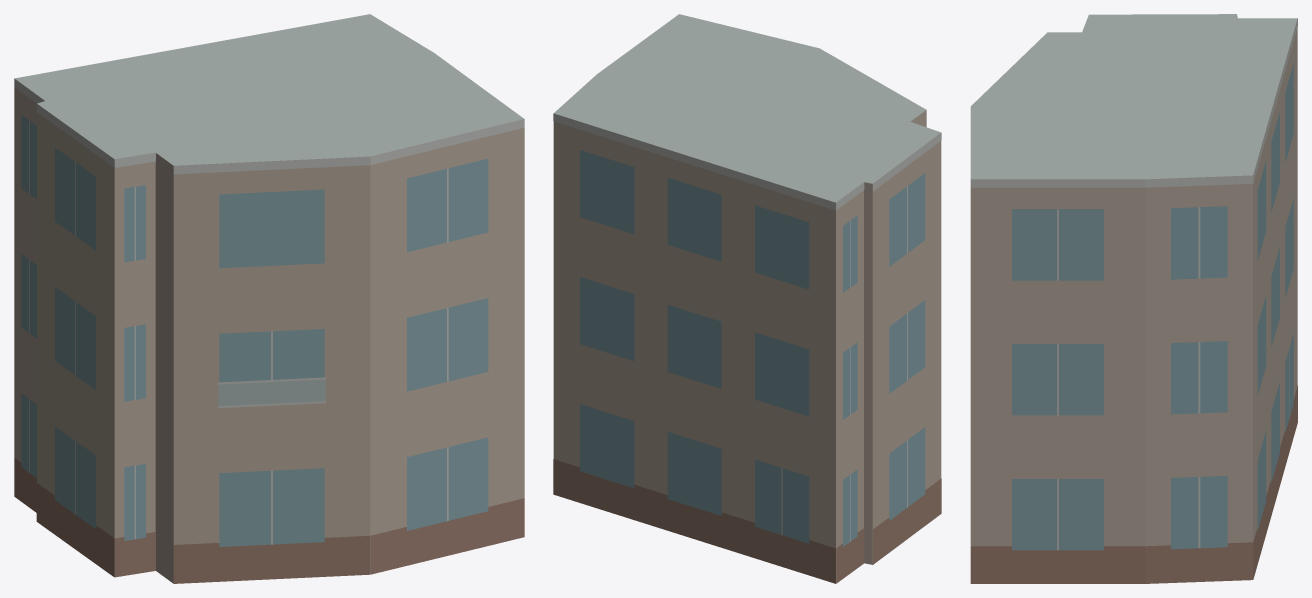
File: survey-upis-32477163.glb
3 renders of one model, left to right at view 1: azimuth 30°, elevation 25°; view 2: azimuth 150°, elevation 25°; view 3: azimuth 270°, elevation 25°, orthographic. The views are drawn at different scales.
Visible parts, largest first — view 1: survey-upis-32477163.tmp; view 2: survey-upis-32477163.tmp; view 3: survey-upis-32477163.tmp.
Part boxes in pixels (x1,y1,x2,y2): survey-upis-32477163.tmp: (14, 14, 524, 583); survey-upis-32477163.tmp: (553, 14, 941, 583); survey-upis-32477163.tmp: (970, 14, 1297, 583).
Size of the model in its own units: 10.35 by 11.8 by 8.66.
